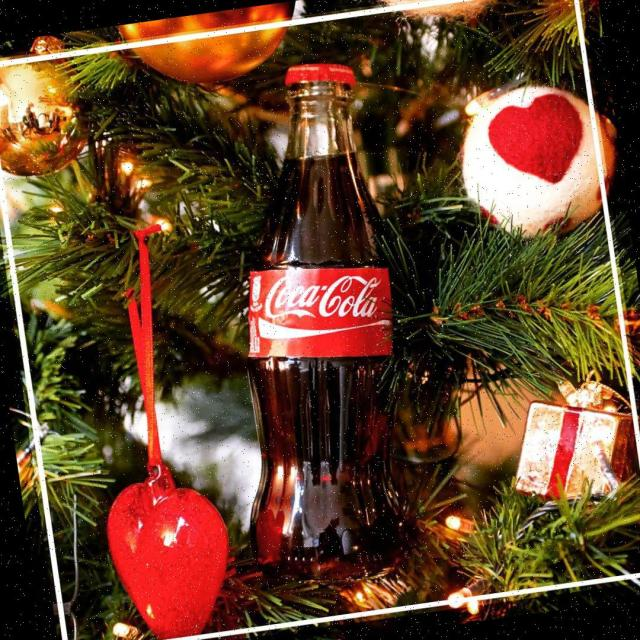coca-cola: (193, 52, 434, 596)
